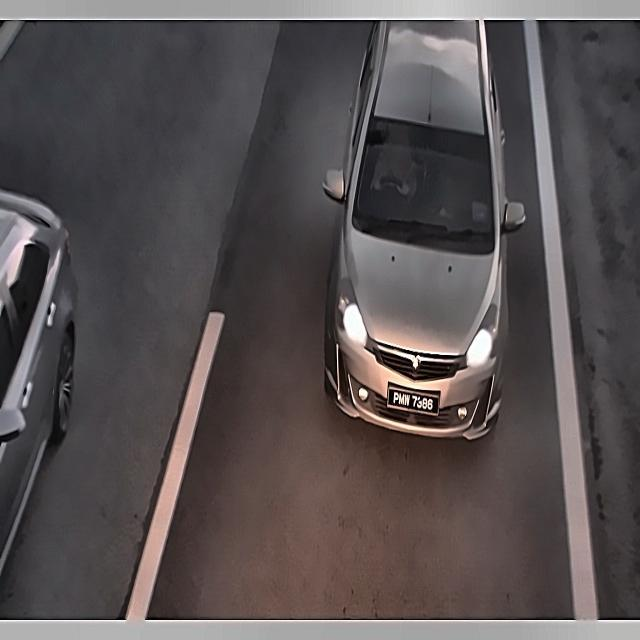car: (387, 382, 441, 418)
